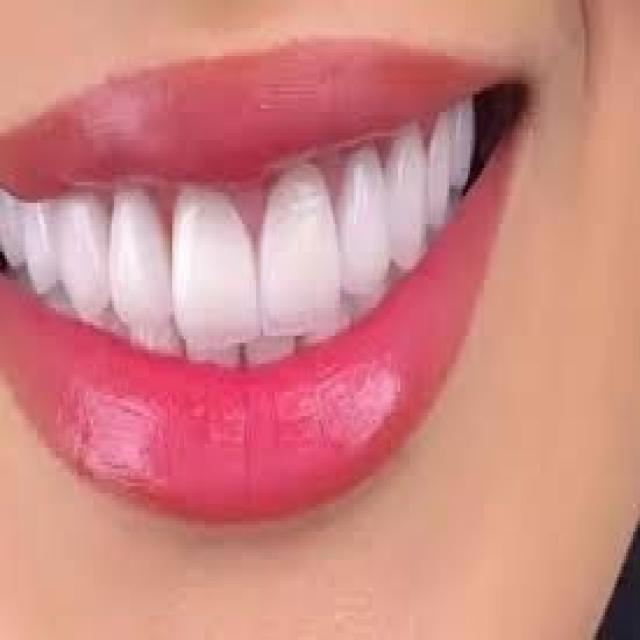tooth: (177, 200, 258, 340), (268, 182, 340, 322), (116, 200, 170, 326), (344, 164, 391, 287), (63, 206, 109, 315), (398, 140, 426, 269), (28, 210, 58, 287), (433, 122, 449, 224), (2, 200, 24, 270), (456, 102, 475, 178)
